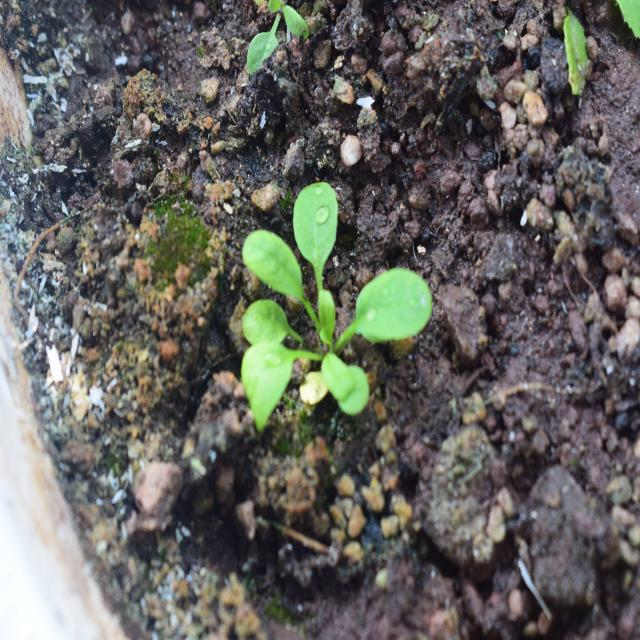Shepherd_Purse: (242, 174, 453, 430)
